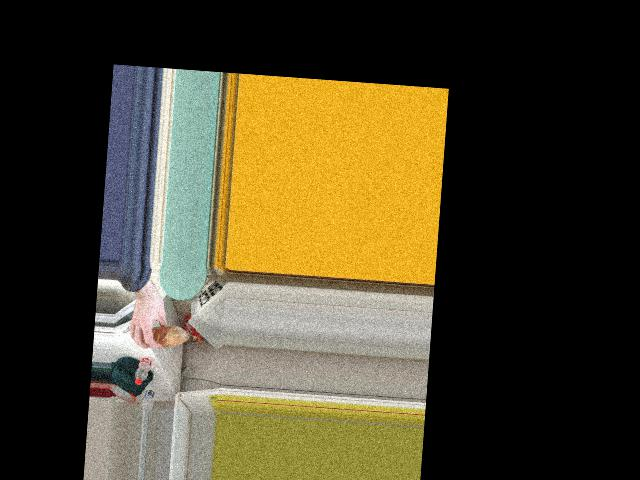sweet_potato: (144, 319, 178, 346)
